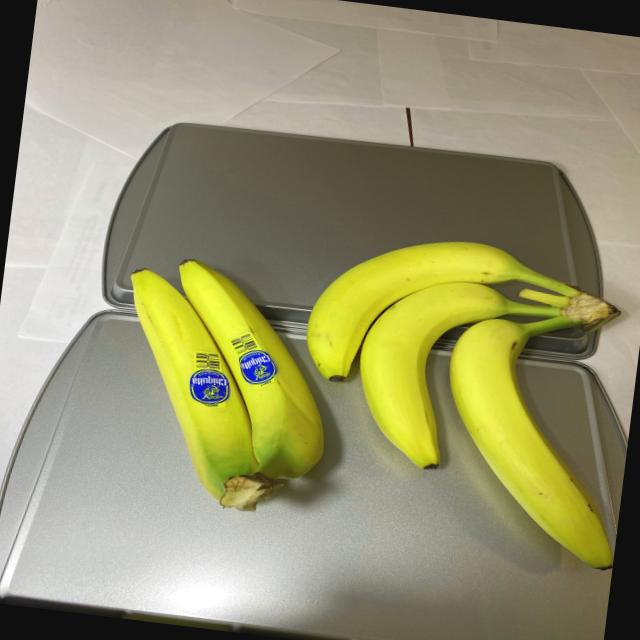banana: (273, 228, 640, 582), (92, 252, 360, 530)
